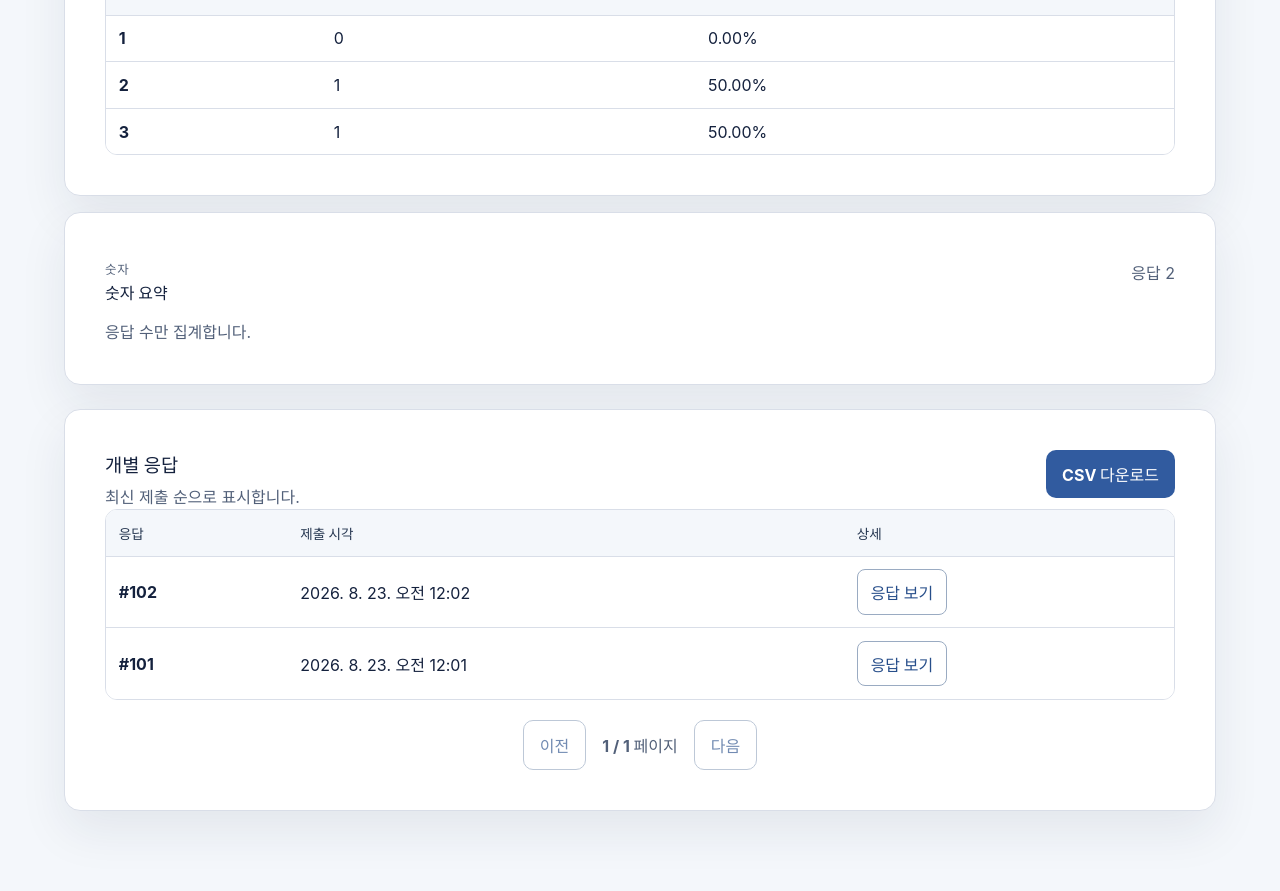
Test: Phase 4-D Results workflow › should_keepCurrentResultsPage_whenCsvDownloadFailsSafely
(page scrolled)
Click the button "CSV 다운로드" at (1111,474), box [1046, 450, 1175, 498]
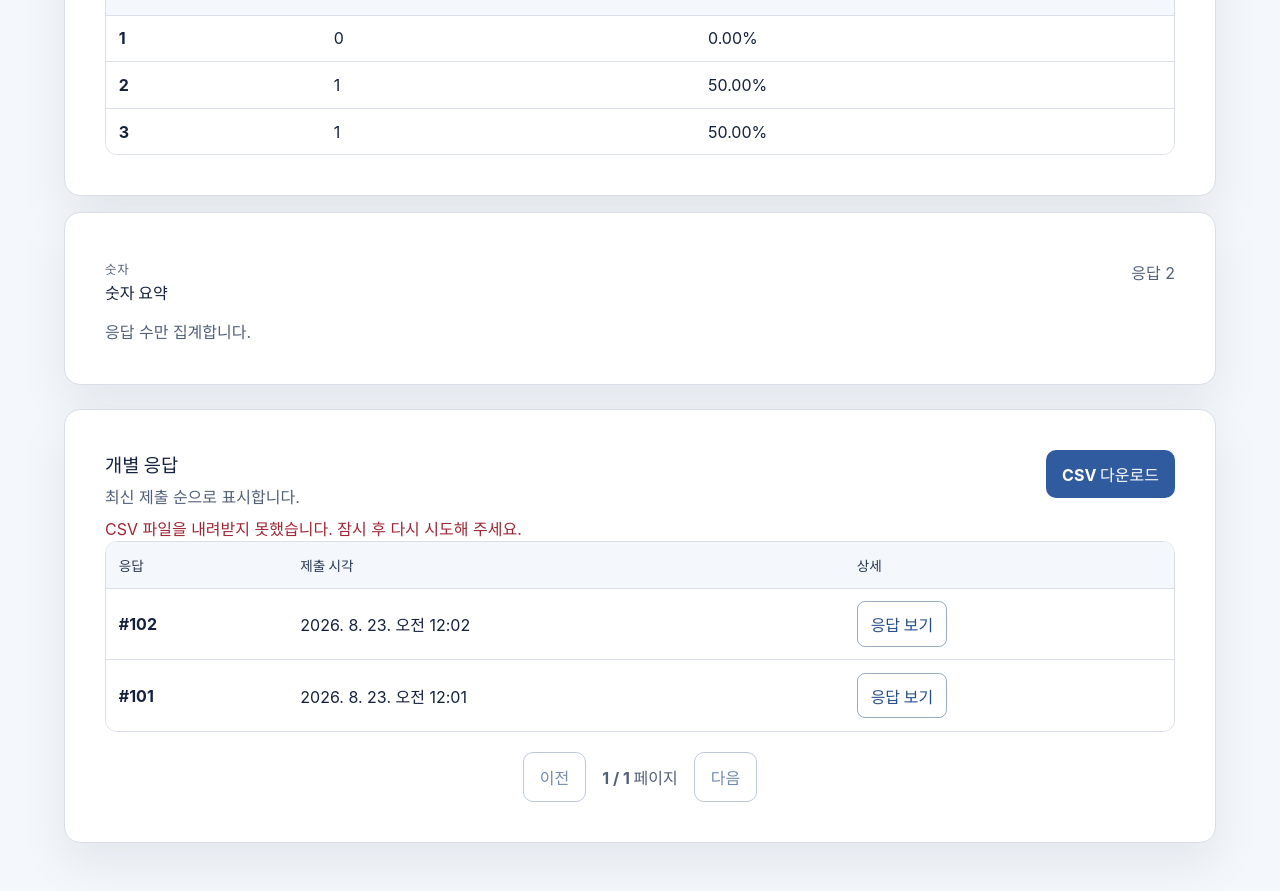
Check: the heading "개별 응답" is shown, box [105, 454, 178, 477]
Check: the message "CSV 파일을 내려받지 못했습니다. 잠시 후 다시 시도해 주세요." is shown, box [105, 519, 522, 539]
